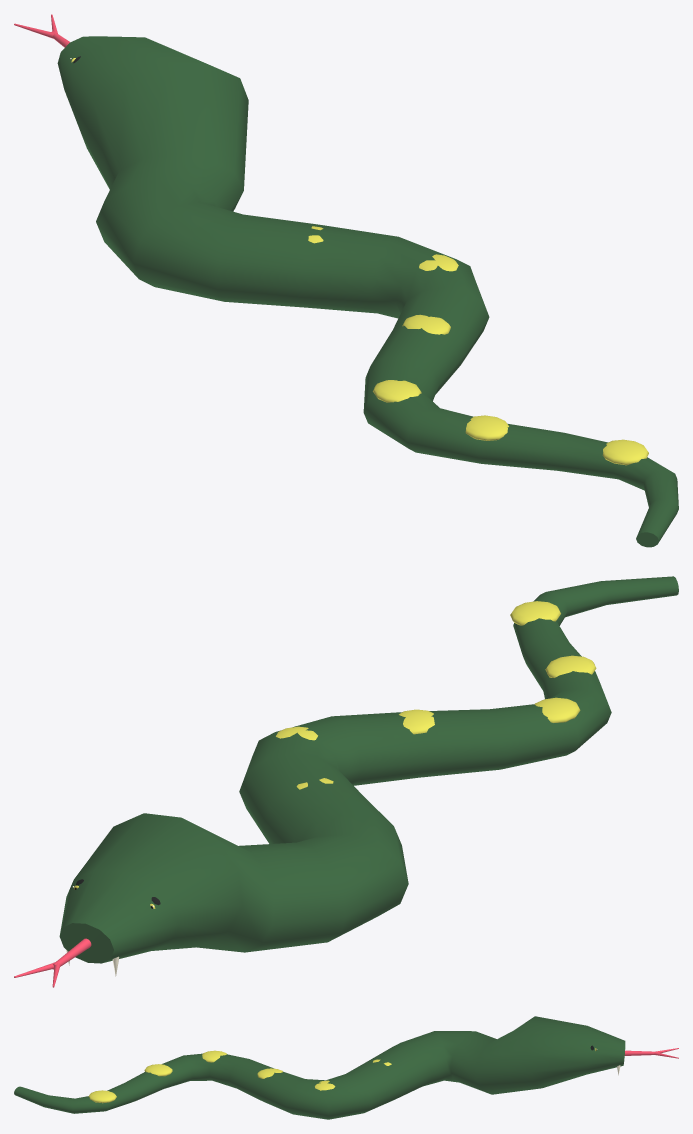
File: snake_hero.glb
The picture shows the model from 3 angles, top to bottom: view 1: azimuth 30°, elevation 25°; view 2: azimuth 150°, elevation 25°; view 3: azimuth 270°, elevation 25°; orthographic projection. The views are drawn at different scales.
Visible parts, largest first — view 1: SnakeOrganicBody, BackMark_00, BackMark_01, BackMark_02; view 2: SnakeOrganicBody, BackMark_00, BackMark_02, BackMark_01, BackMark_03; view 3: SnakeOrganicBody, BackMark_00, BackMark_01, BackMark_02.
Boxes of the visible parts, x1=… form: SnakeOrganicBody: x1=57, y1=36, x2=678, y2=547; BackMark_00: x1=602, y1=439, x2=648, y2=465; BackMark_01: x1=465, y1=415, x2=508, y2=440; BackMark_02: x1=373, y1=380, x2=421, y2=402; SnakeOrganicBody: x1=59, y1=576, x2=678, y2=963; BackMark_00: x1=510, y1=601, x2=560, y2=625; BackMark_02: x1=534, y1=697, x2=580, y2=722; BackMark_01: x1=545, y1=655, x2=596, y2=677; BackMark_03: x1=399, y1=709, x2=434, y2=734; SnakeOrganicBody: x1=14, y1=1016, x2=625, y2=1119; BackMark_00: x1=88, y1=1090, x2=116, y2=1103; BackMark_01: x1=144, y1=1064, x2=172, y2=1076; BackMark_02: x1=202, y1=1050, x2=226, y2=1062.
Size of the model in its own units: 1.29 by 0.6963 by 5.62.
